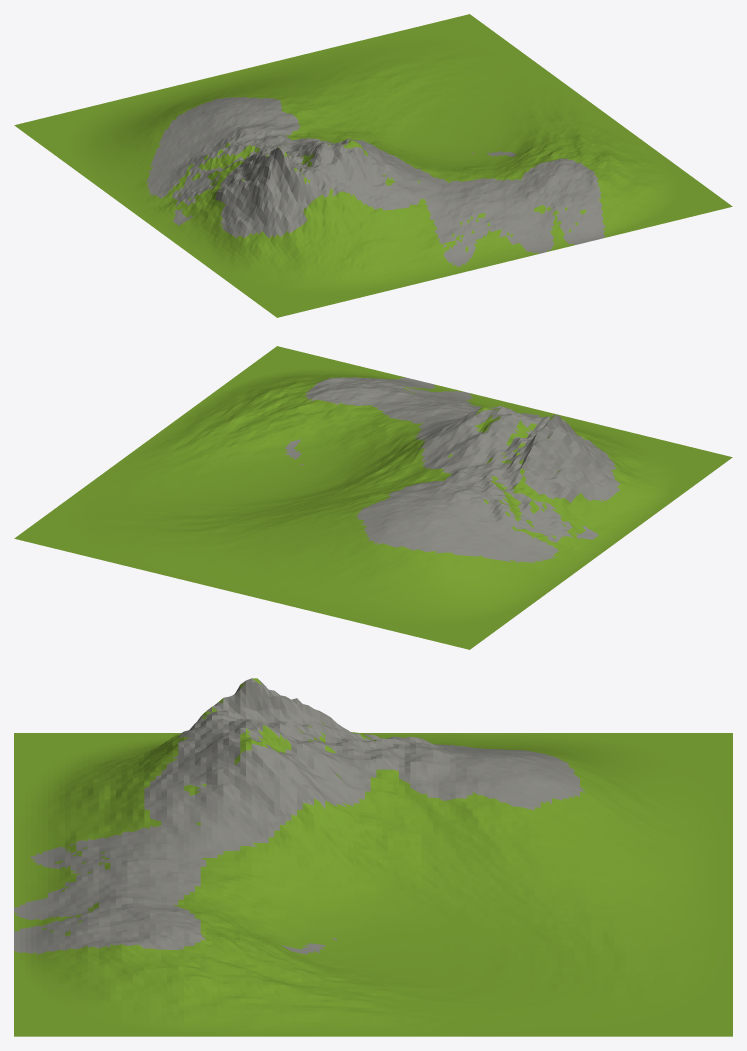
Rendered from LANDSCAPE.fbx.
The picture shows the model from 3 angles, top to bottom: view 1: azimuth 30°, elevation 25°; view 2: azimuth 150°, elevation 25°; view 3: azimuth 270°, elevation 25°; orthographic projection. The views are drawn at different scales.
Parts seen in each view (by area): view 1: Landscape.001; view 2: Landscape.001; view 3: Landscape.001.
Boxes of the visible parts, bbox=[...] form: Landscape.001: bbox=[14, 14, 732, 317]; Landscape.001: bbox=[14, 346, 732, 649]; Landscape.001: bbox=[14, 678, 732, 1036].
Bounding box in the file's own units: 200 × 200 × 35.12.
